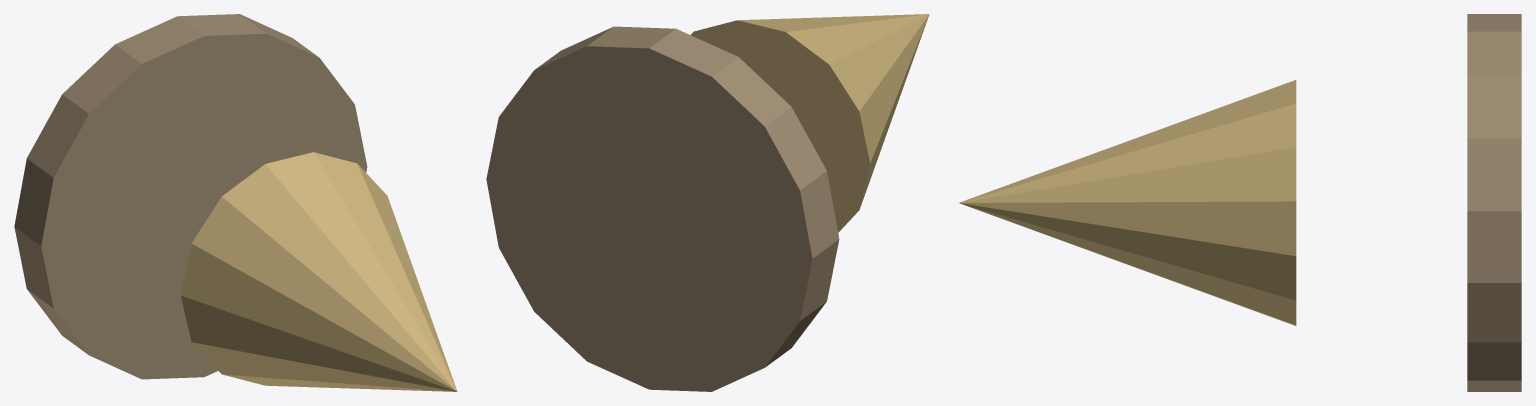
File: event-marker-eco.glb
The picture shows the model from 3 angles, left to right: view 1: azimuth 30°, elevation 25°; view 2: azimuth 150°, elevation 25°; view 3: azimuth 270°, elevation 25°; orthographic projection.
Parts seen in each view (by area): view 1: base, event; view 2: base, event; view 3: event, base.
Boxes of the visible parts, x1,y1,x2,y2 form: base: (14,14,367,379); event: (181,152,457,391); base: (486,26,839,391); event: (690,14,929,232); event: (959,80,1296,325); base: (1467,14,1521,391).
Bounding box in the file's own units: 0.84 × 0.84 × 1.25.
